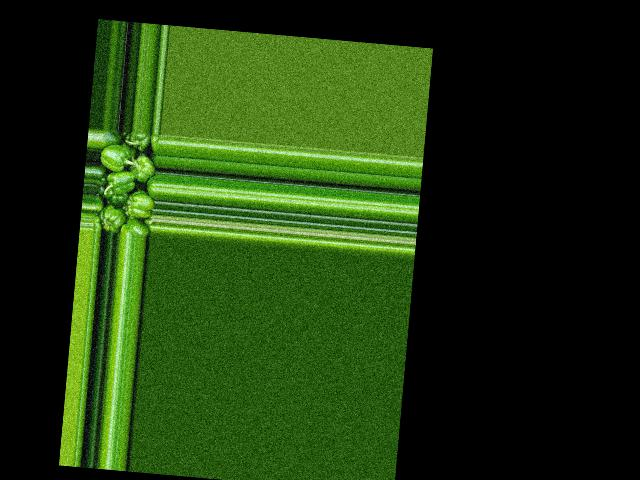bell_pepper: (100, 128, 121, 153)
